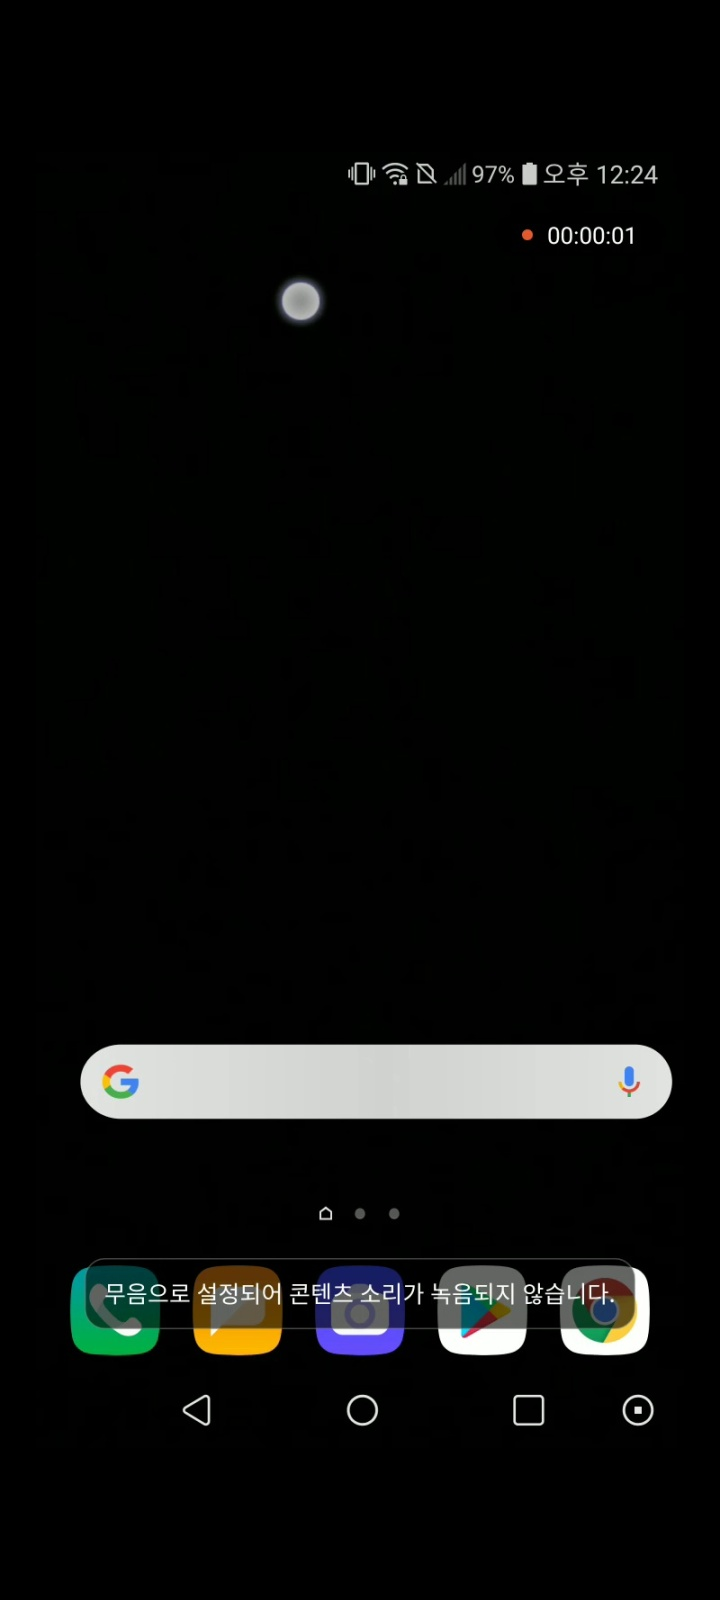Cursor: (279, 280, 324, 324)
